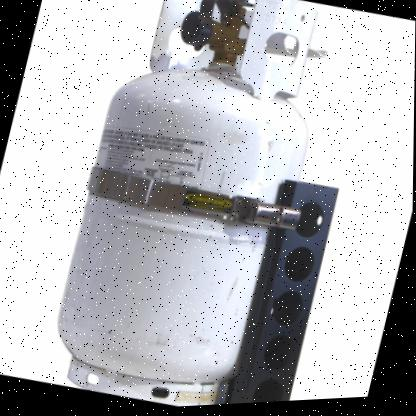gas-tank: (25, 0, 372, 414)
